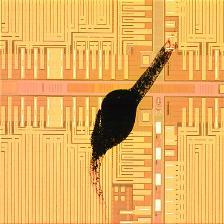PARTICLE: (86, 33, 182, 204)
